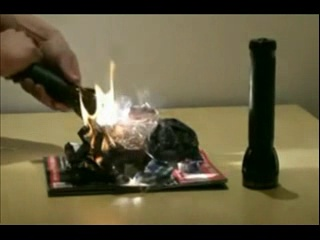fire: (78, 58, 116, 163)
smoke: (116, 89, 157, 151)
